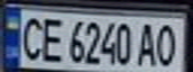0: (115, 19, 136, 66)
2: (81, 18, 103, 65)
4: (100, 19, 121, 65)
6: (63, 16, 87, 64)
A: (136, 20, 160, 68)
C: (18, 12, 45, 62)
E: (36, 14, 66, 63)
O: (151, 20, 181, 68)
